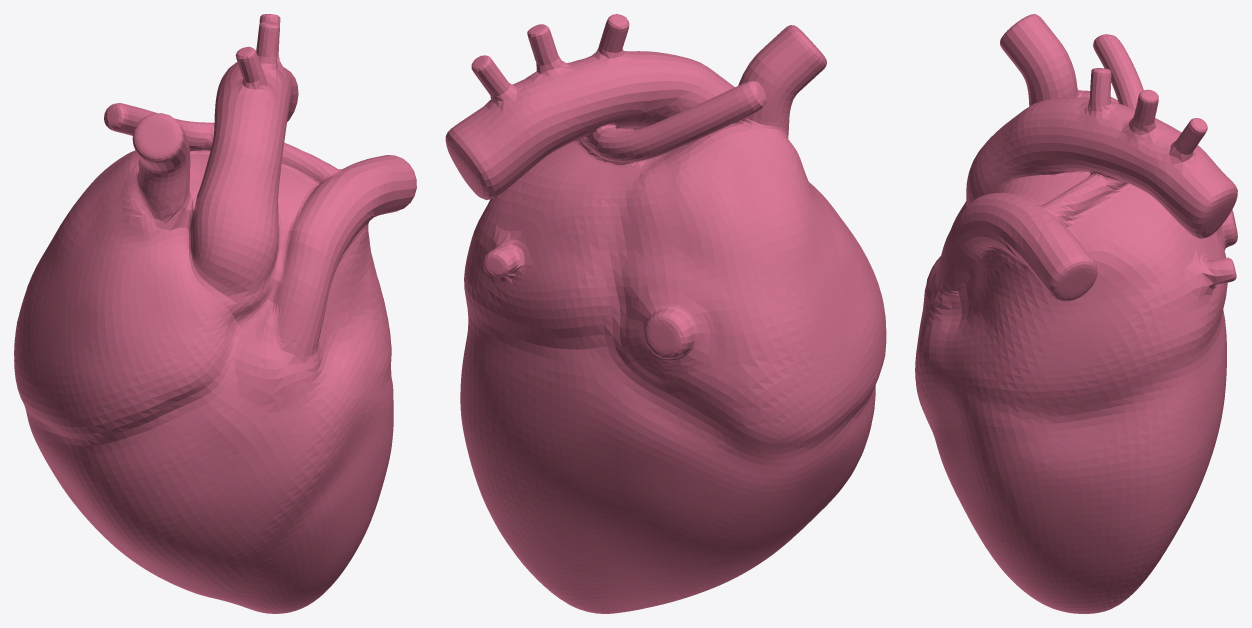
Rendered from heart.glb.
The picture shows the model from 3 angles, left to right: view 1: azimuth 30°, elevation 25°; view 2: azimuth 150°, elevation 25°; view 3: azimuth 270°, elevation 25°; orthographic projection. The views are drawn at different scales.
Parts seen in each view (by area): view 1: commons-heart.stl; view 2: commons-heart.stl; view 3: commons-heart.stl.
Part boxes in pixels (box(x1,y1,x2,y2)): commons-heart.stl: box(14, 14, 416, 613); commons-heart.stl: box(445, 14, 886, 613); commons-heart.stl: box(915, 14, 1237, 613).
Bounding box in the file's own units: 1.69 × 2.5 × 1.37.
